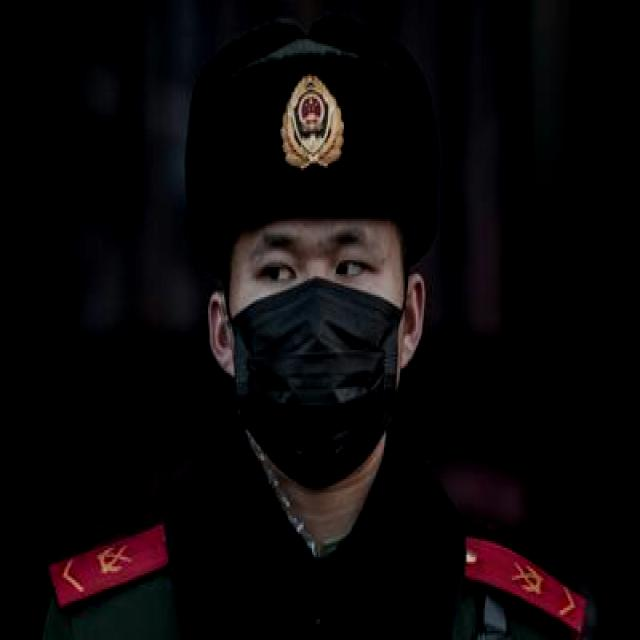face_mask: (228, 221, 406, 483)
person: (27, 27, 536, 640)
